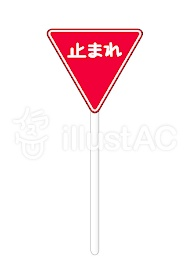Regulatory_sign_triangle: (48, 25, 149, 115)
